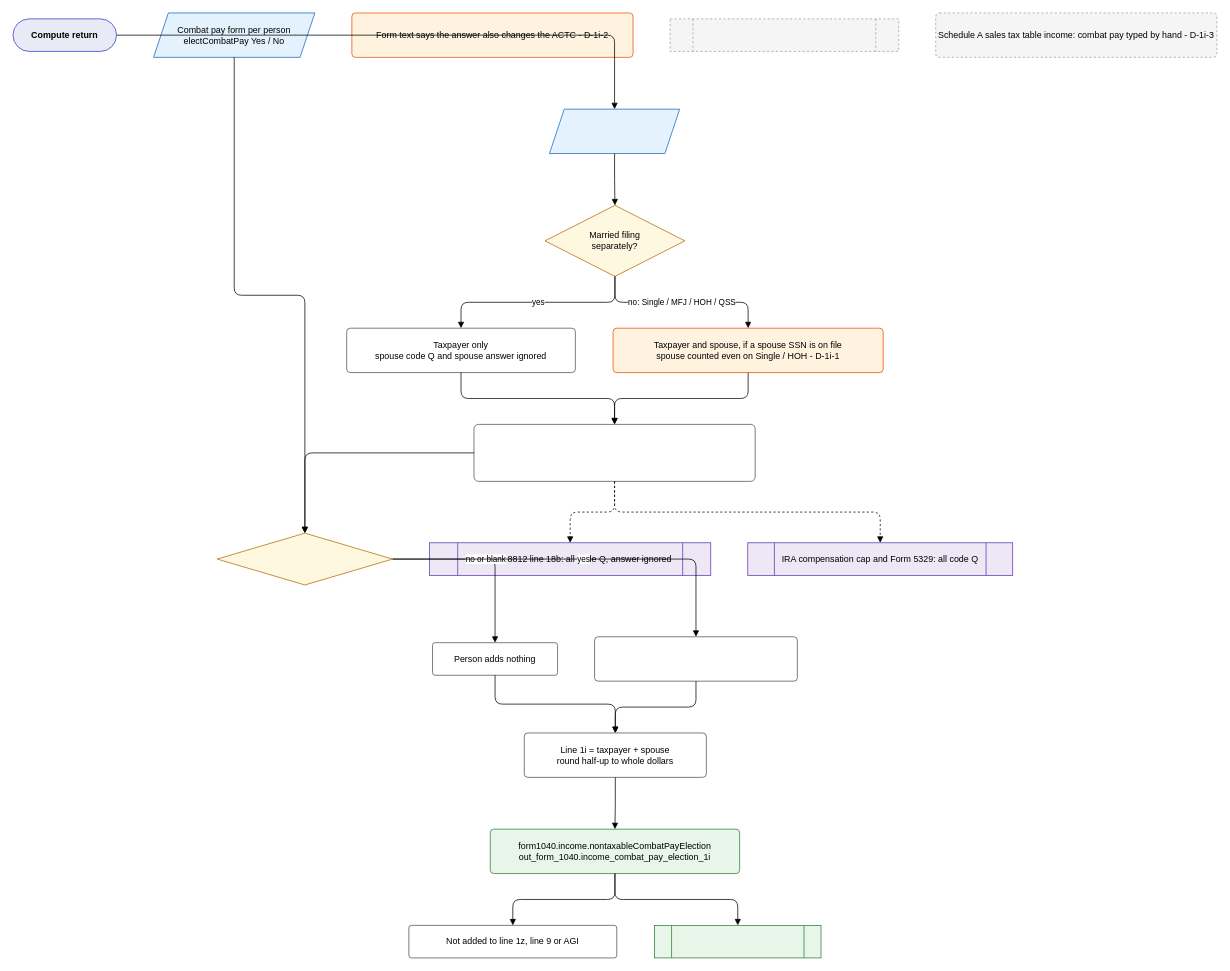
Image size: 1230x971. Some labels were removed from this diagram. Here are the shapes that lost their labels. From the top down, the centre of each, then its label:
At pixel 784 34: "Form 2441 combat pay elections - D-1e-4".
At pixel 614 131: "Form W-2 statements box a, box 12 code Q".
At pixel 614 452: "Per person: sum code Q of W-2s whose box a = that SSN no SSN = nothing".
At pixel 304 558: "Person answered Yes?".
At pixel 695 658: "Person adds the whole code Q total 0 if none".
At pixel 737 941: "EIC earned income, line 27a".
